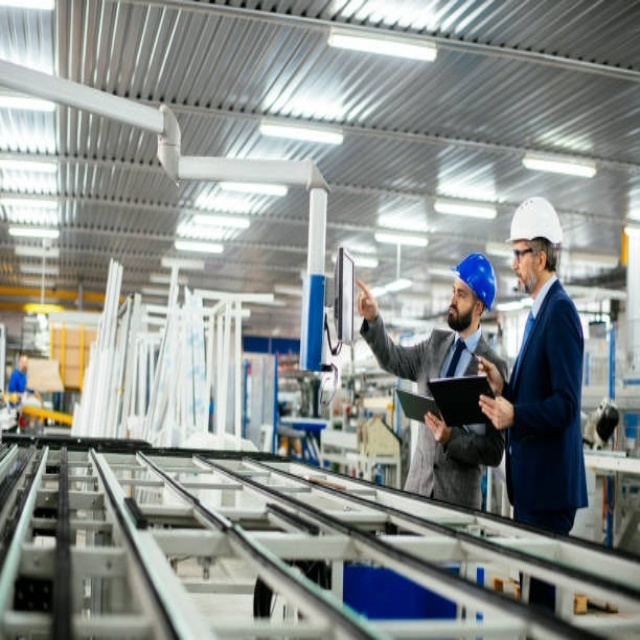Gafas: (512, 247, 540, 262)
Sin_gafas: (452, 282, 471, 301)
Sin_guantes: (472, 350, 505, 399), (478, 391, 514, 433), (352, 275, 380, 322), (423, 409, 448, 444)
Sin_mascara: (512, 262, 529, 289), (447, 298, 459, 320)
